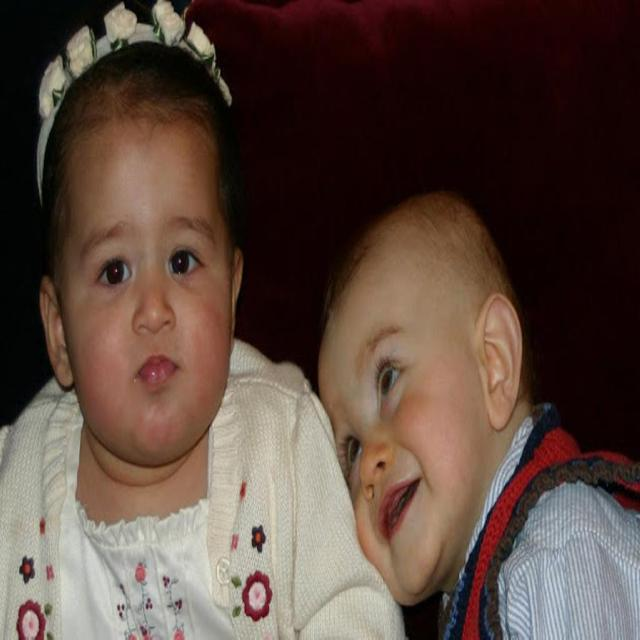Face: (66, 116, 229, 468), (315, 291, 474, 606)
